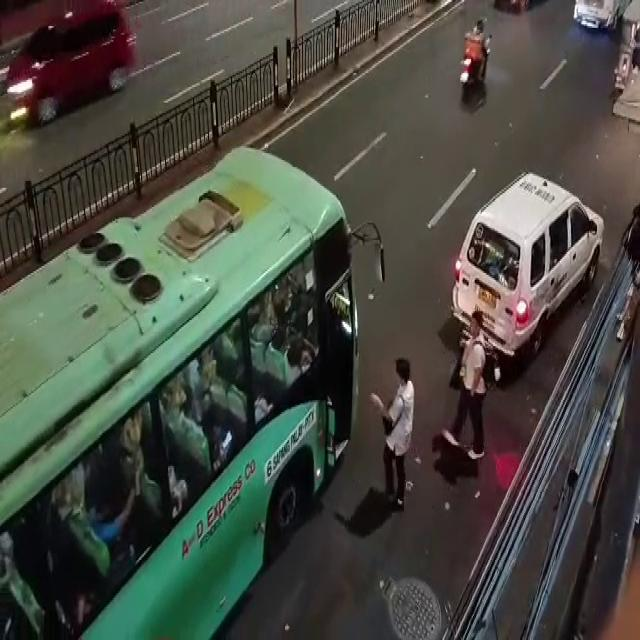bus: (0, 130, 400, 638)
car: (447, 159, 615, 359), (0, 0, 146, 132)
motorcycle: (446, 12, 509, 118)
